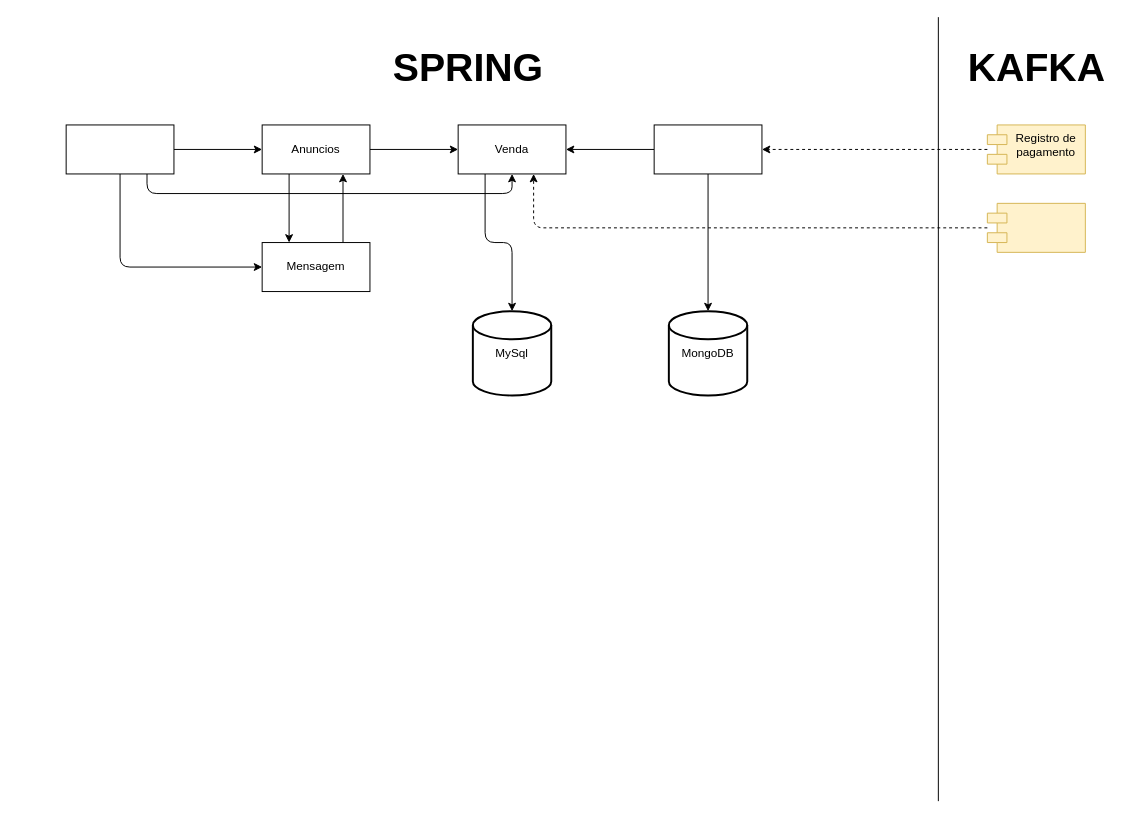
This 1141x819 diagram has some shape labels left out. The centre of each missing label's shape, as x and y in pixels:
Pagamento: the point at 707,149
Registro de entrega: the point at 1035,227
User: the point at 119,149
